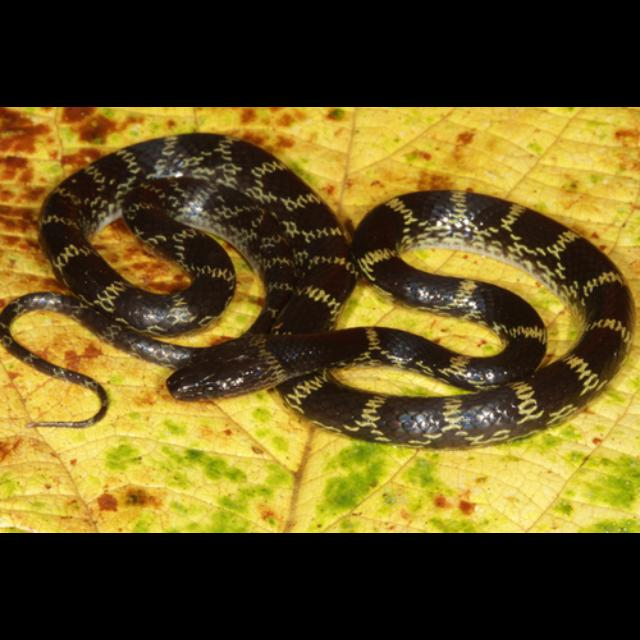snake: (0, 128, 638, 454)
